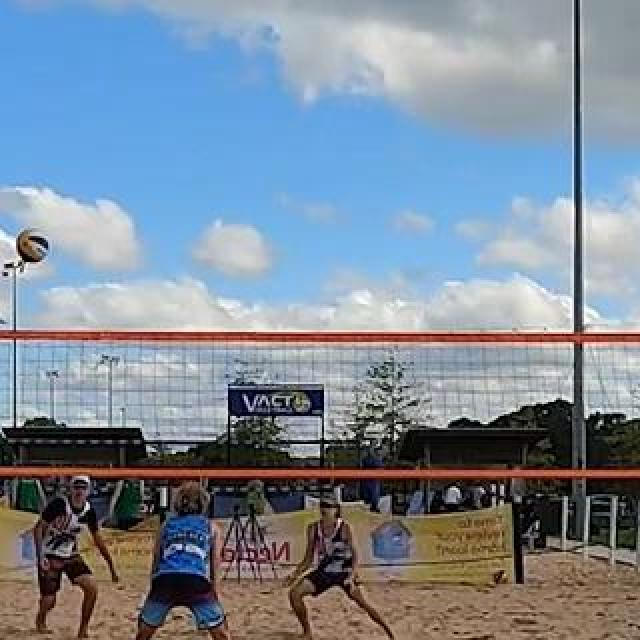volleyball: (17, 231, 49, 263), (493, 569, 509, 585)
